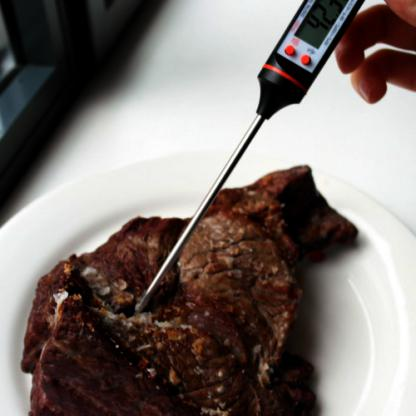Carne: (194, 178, 360, 390), (43, 306, 296, 415)
